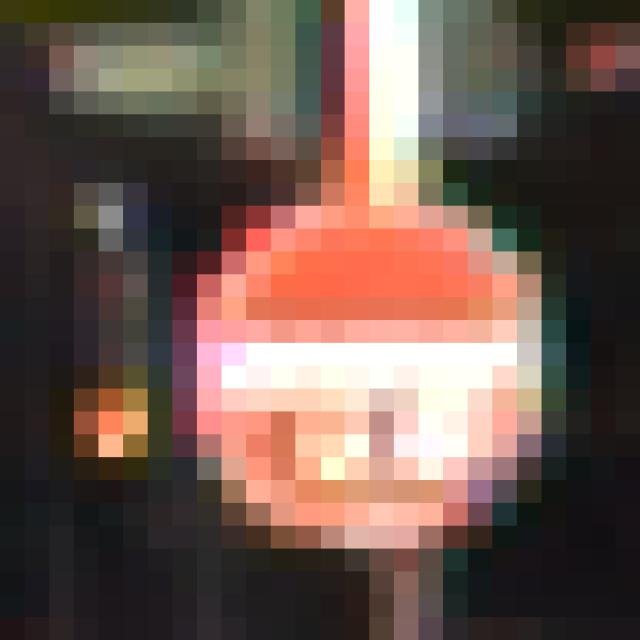No Entry: (149, 138, 518, 527)
